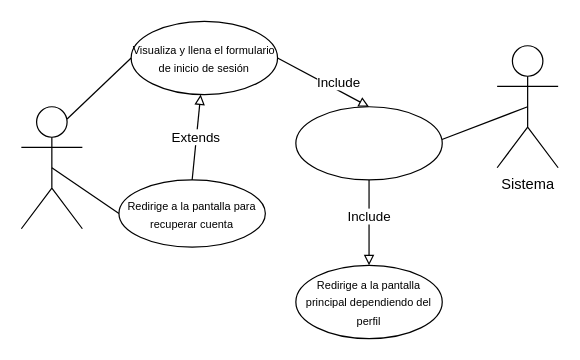
The diagram is 580 pixels wide and 360 high, and some of its shapes have lost their labels. Each missing label, with the box of its shape:
Usuario: (20, 106, 82, 229)
Validar los datos de inicio de sesión: (295, 106, 442, 180)
